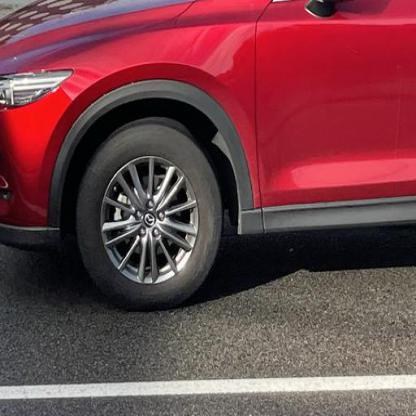Tire: (74, 116, 225, 310)
